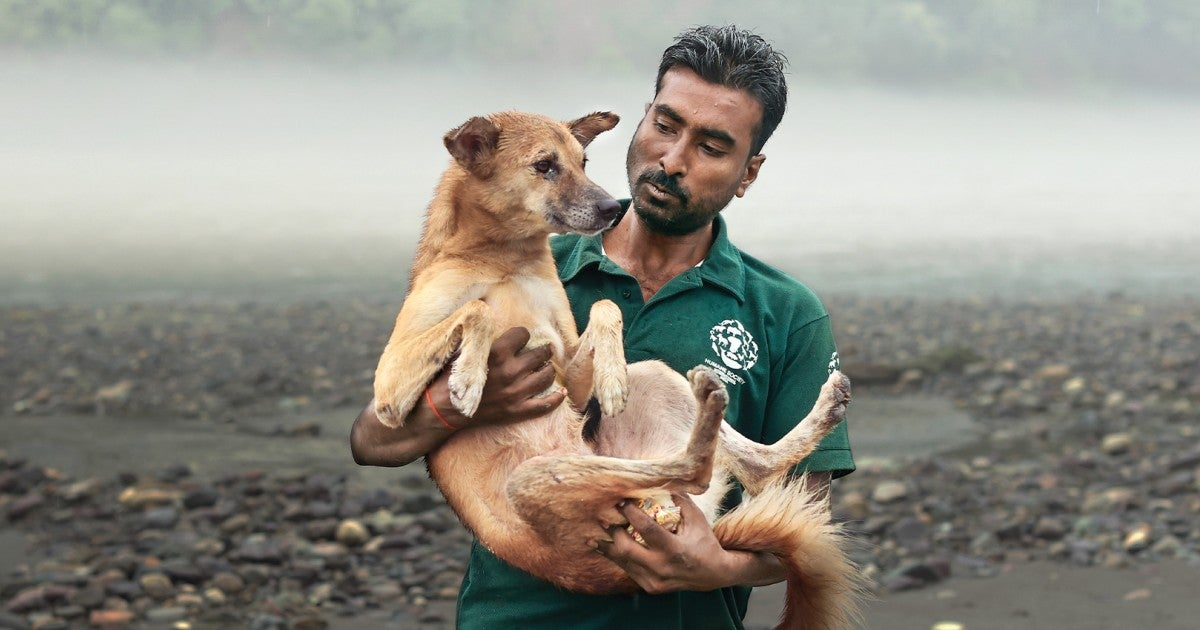Dog: (366, 111, 872, 618)
